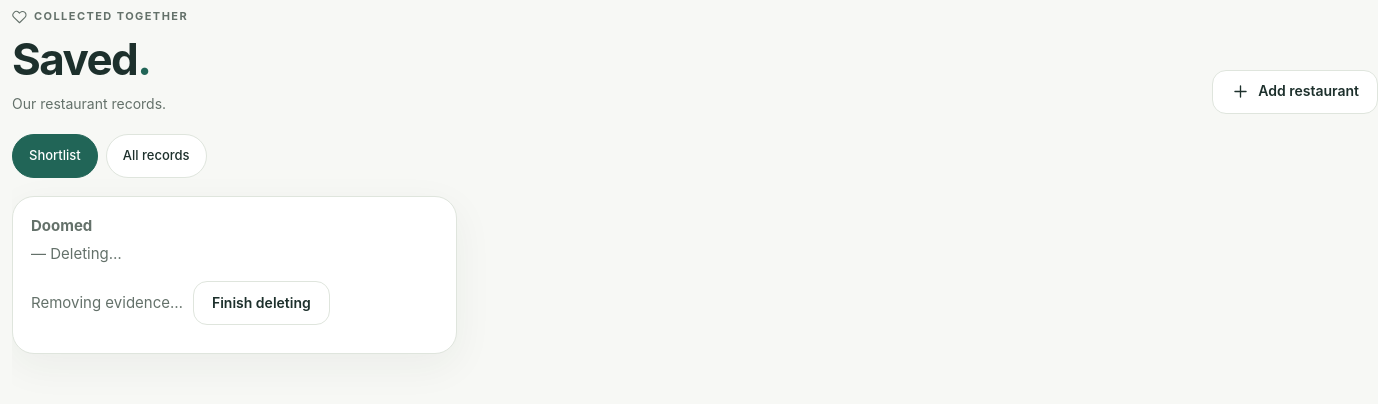
Scenario: RestaurantsPage › resumes an interrupted deletion once per mount (even under StrictMode) and offers Finish deleting
Expected: the list item with test id "restaurant-deleting" shows "Deleting…", [31,244,122,263]
Click the button with test id "finish-deleting" at x=261, y=304, box [193,282,330,326]
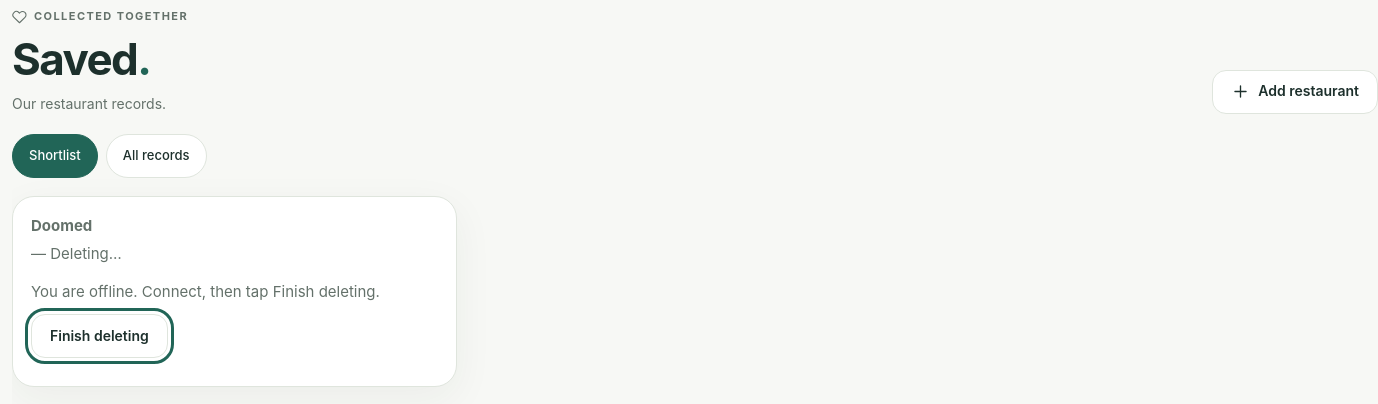
Expected: the list item with test id "restaurant-deleting" shows "You are offline", [31,282,380,302]
